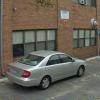Car: (4, 43, 92, 96)
